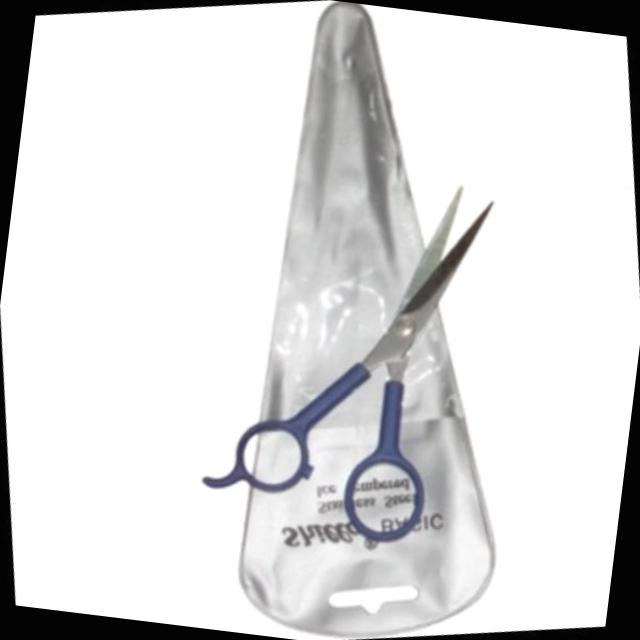scissors: (112, 141, 608, 608)
